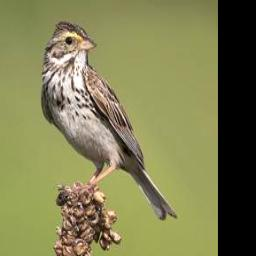Sparrow: (41, 20, 178, 219)
